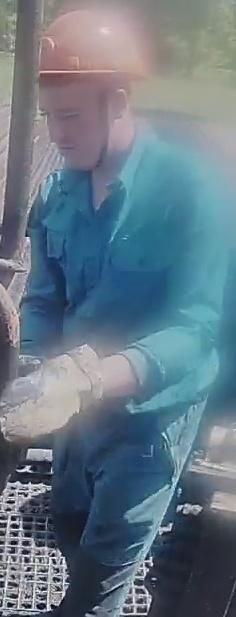gloves: (0, 339, 121, 444)
helmet: (37, 8, 153, 82)
vest: (20, 147, 236, 449)
